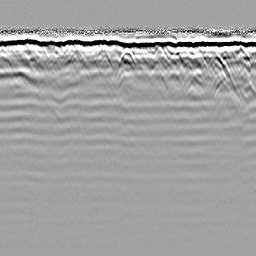cavity: (117, 45, 137, 67)
